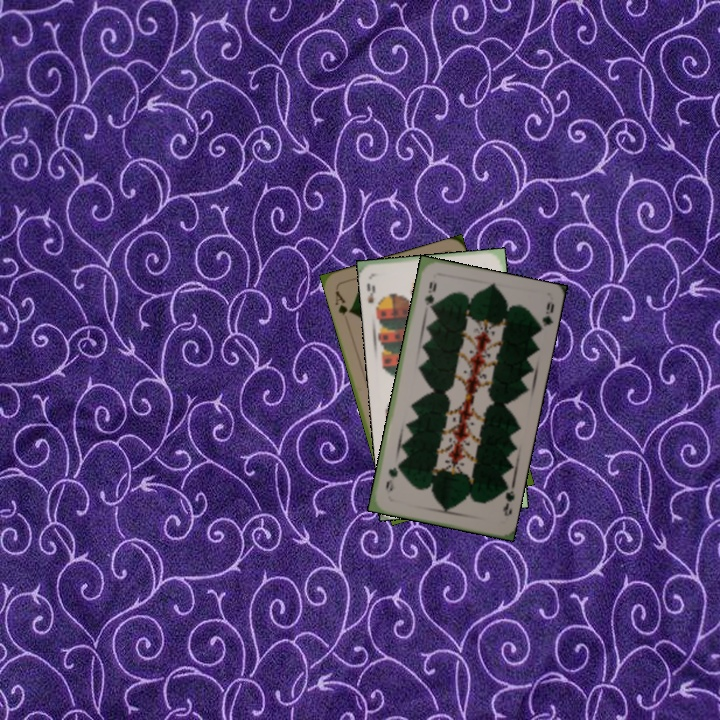G9: (498, 481, 517, 519), (420, 277, 439, 313)
GA: (331, 287, 354, 317)
S9: (363, 279, 384, 315)
